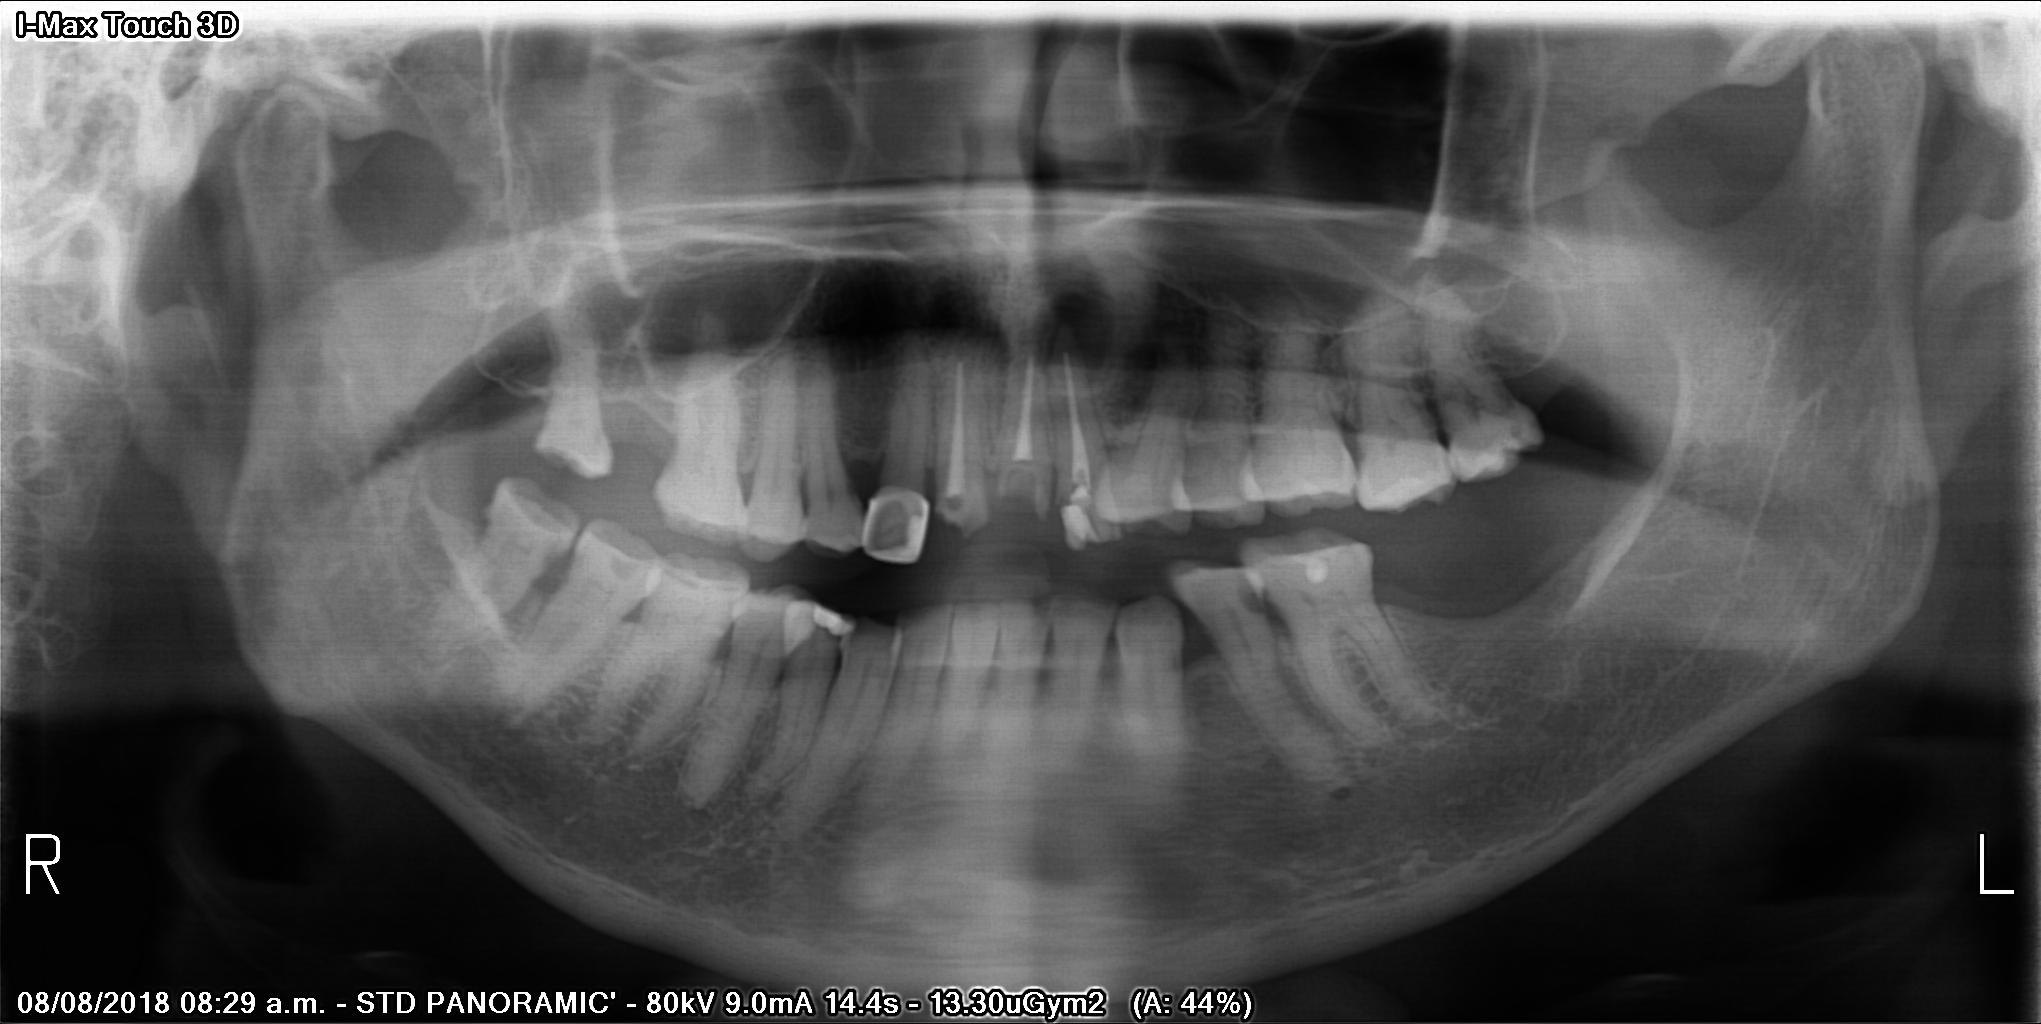Çürük: (871, 485, 928, 576), (1054, 491, 1098, 560), (800, 596, 863, 637), (1306, 546, 1338, 585)
Çürük Bölgesi: (528, 440, 599, 487), (1237, 576, 1277, 630), (1004, 474, 1038, 515), (803, 630, 849, 648)
